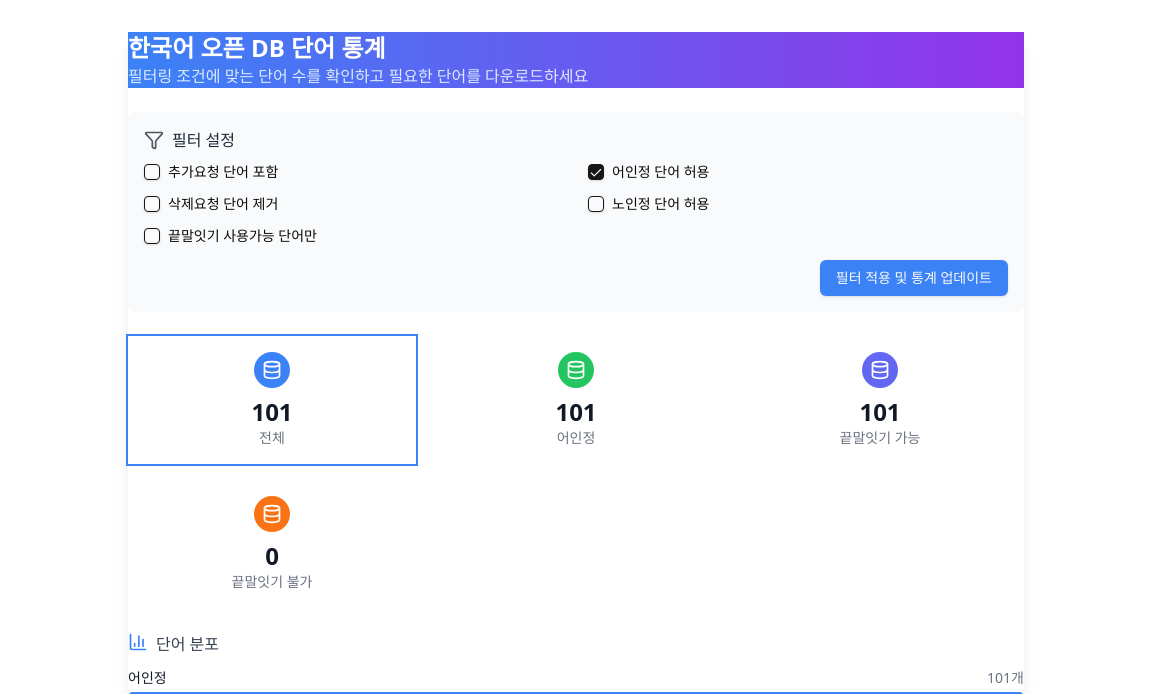
Test: WordsDownloadHome › shows the exact validation message when neither word class is selected
Click the checkbox named "어인정 단어 허용" next to "어인정 단어 허용" at (596, 172), box [588, 164, 604, 180]
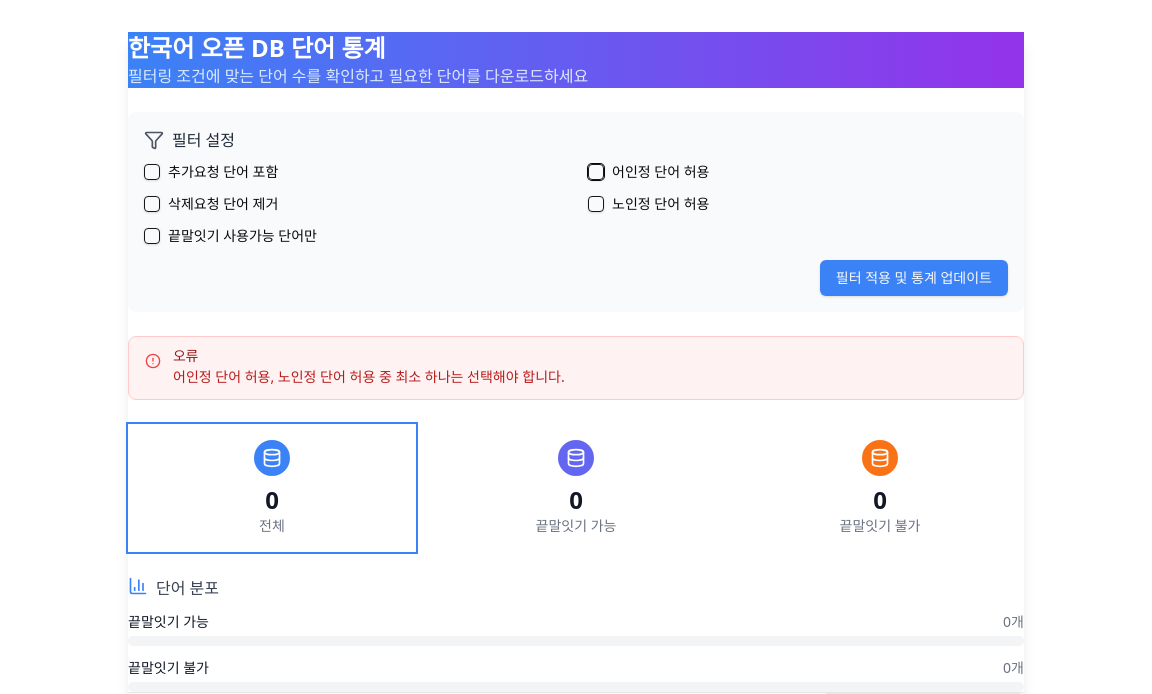
Result: the text "어인정 단어 허용, 노인정 단어 허용 중 최소 하나는 선택해야 합니다." is shown at [173, 367, 565, 386]
